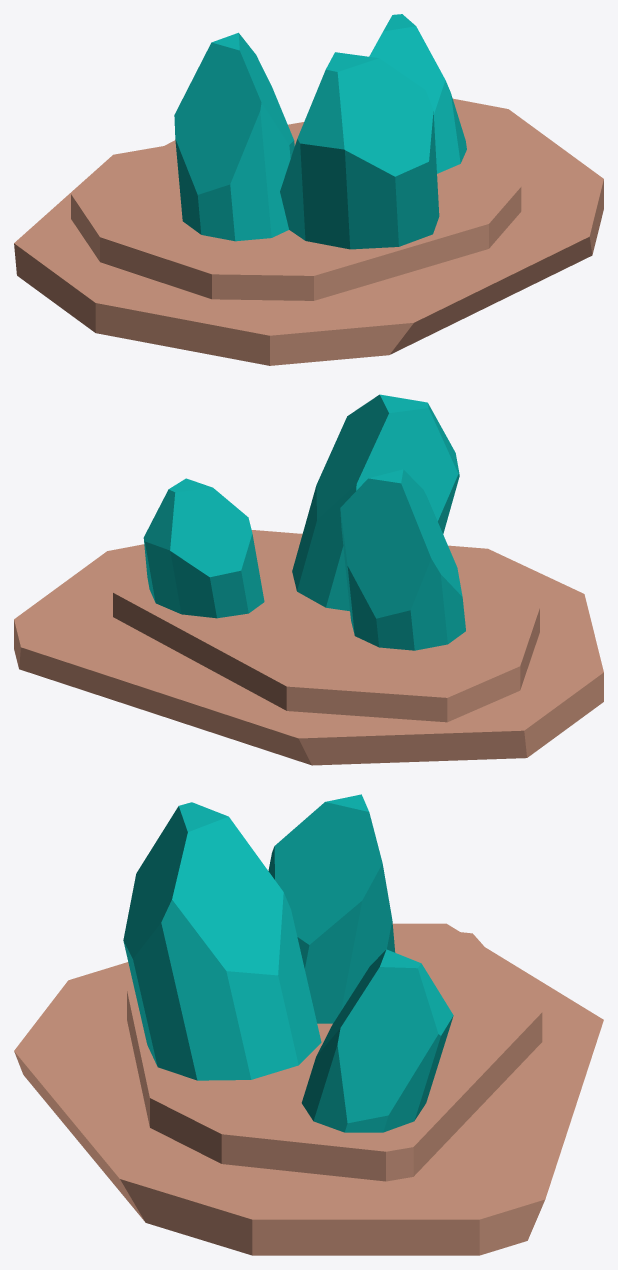
The model's file is uranium_deposit.glb.
3 renders of one model, top to bottom at view 1: azimuth 30°, elevation 25°; view 2: azimuth 150°, elevation 25°; view 3: azimuth 270°, elevation 25°, orthographic. The views are drawn at different scales.
Parts seen in each view (by area): view 1: Cylinder.008; view 2: Cylinder.008; view 3: Cylinder.008.
Part boxes in pixels (bbox=[...]): Cylinder.008: bbox=[14, 14, 603, 365]; Cylinder.008: bbox=[14, 394, 603, 765]; Cylinder.008: bbox=[14, 794, 603, 1255].
Bounding box in the file's own units: 0.7223 × 0.3228 × 0.6088.
